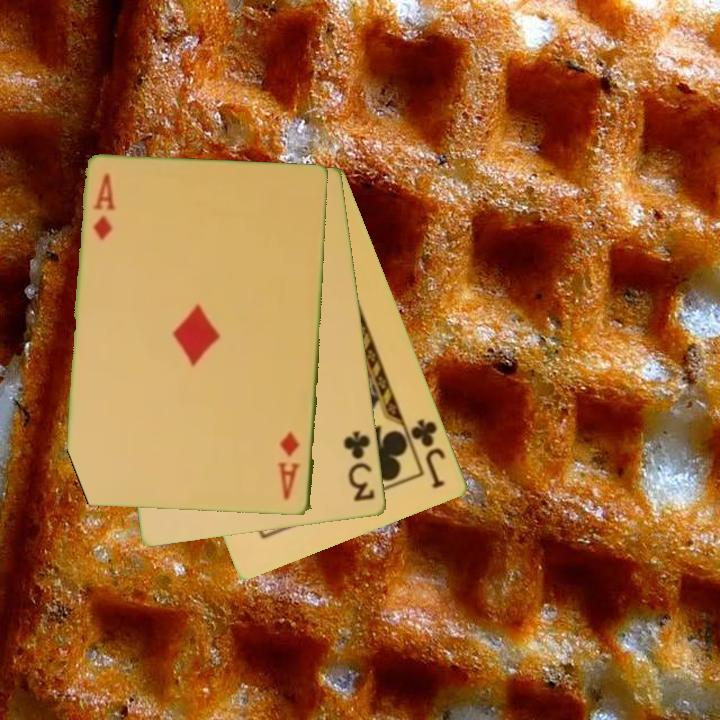3c: (340, 427, 378, 505)
Ad: (275, 429, 303, 503), (90, 171, 117, 244)
Jc: (407, 415, 449, 492)
